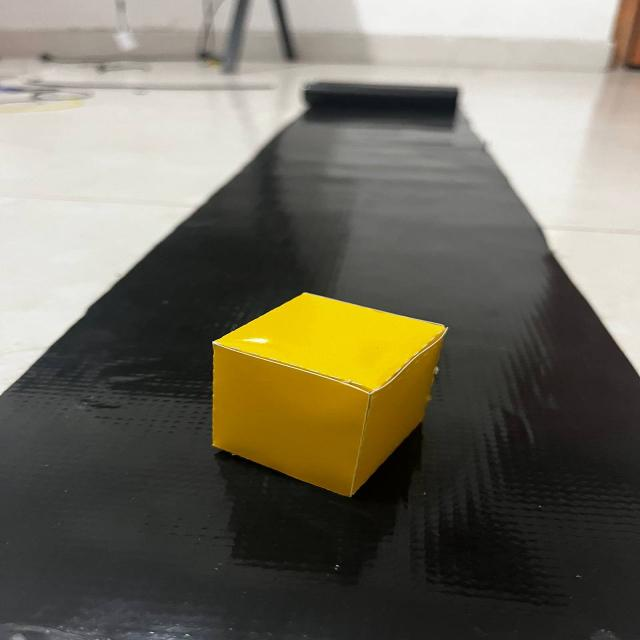Amarillo: (190, 277, 481, 527)
